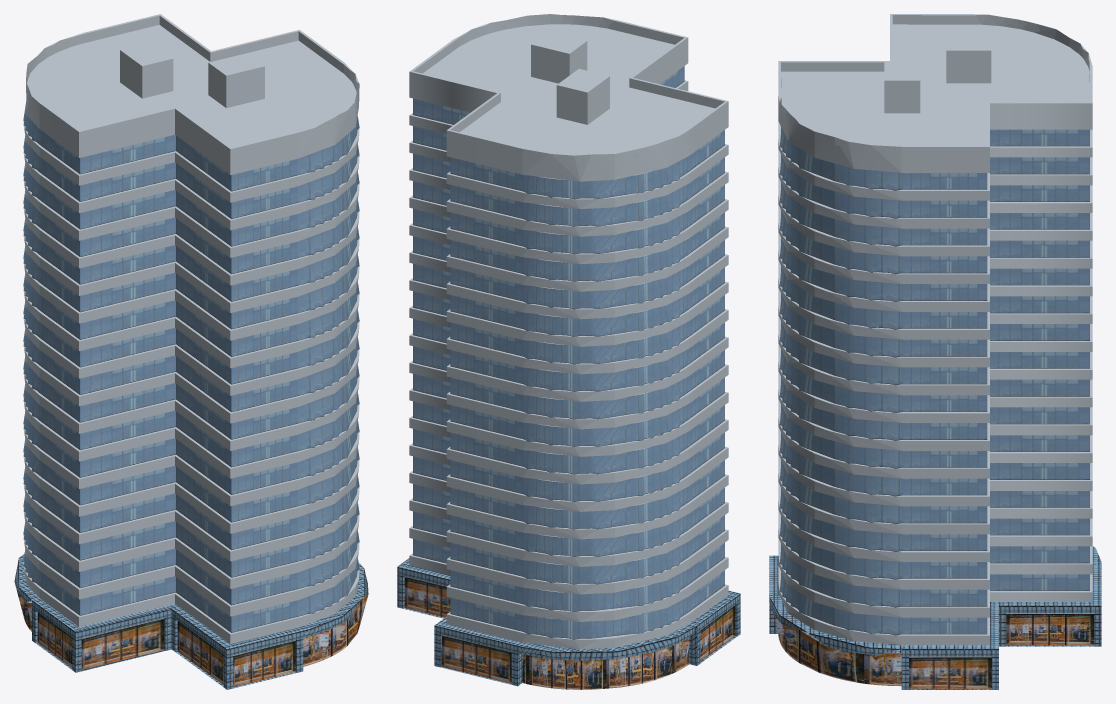
Rendered from Medium_Building_2.fbx.
3 views of the same model, side by side, from view 1: azimuth 30°, elevation 25°; view 2: azimuth 150°, elevation 25°; view 3: azimuth 270°, elevation 25° (orthographic).
Parts seen in each view (by area): view 1: Medium_Building_2; view 2: Medium_Building_2; view 3: Medium_Building_2.
Part boxes in pixels (x1,y1,x2,y2): Medium_Building_2: (14,14,368,689); Medium_Building_2: (397,14,740,689); Medium_Building_2: (769,14,1101,689).
Bounding box in the file's own units: 3686 × 6886 × 3686.
